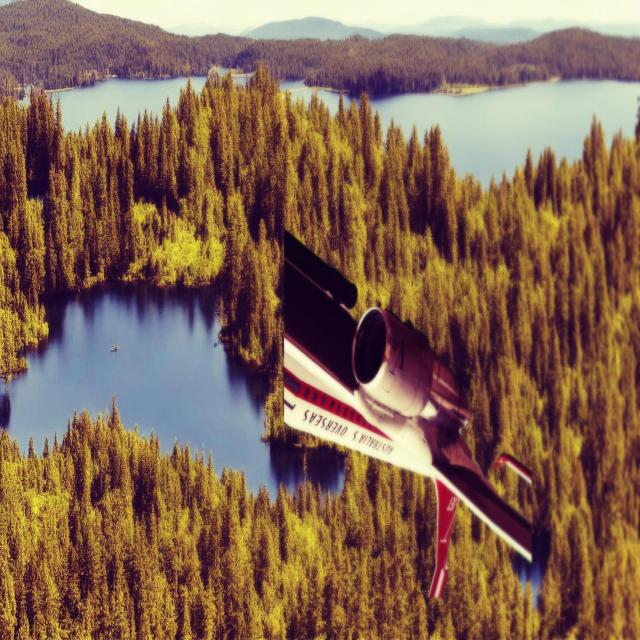airplane: (282, 228, 534, 600)
